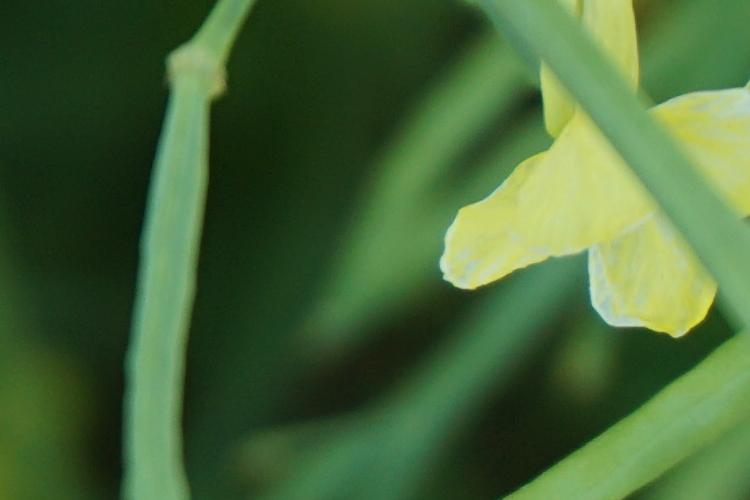yellow: (428, 15, 750, 345)
